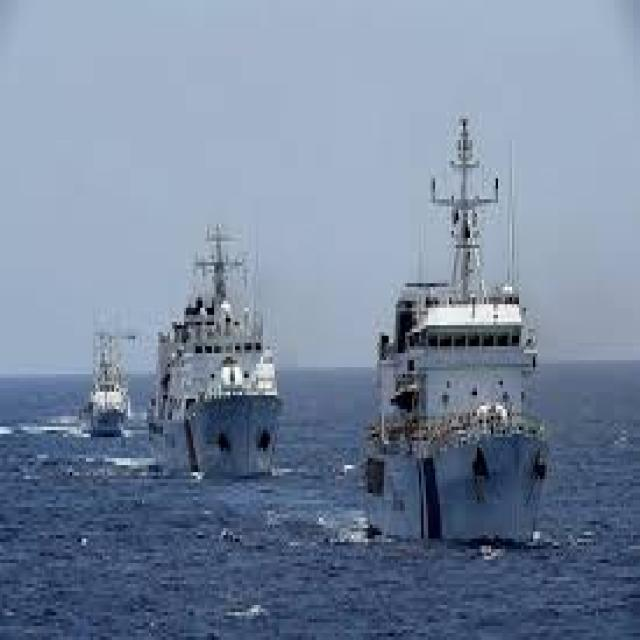navalvessels: (345, 111, 553, 554), (146, 213, 282, 464), (74, 308, 138, 427)
